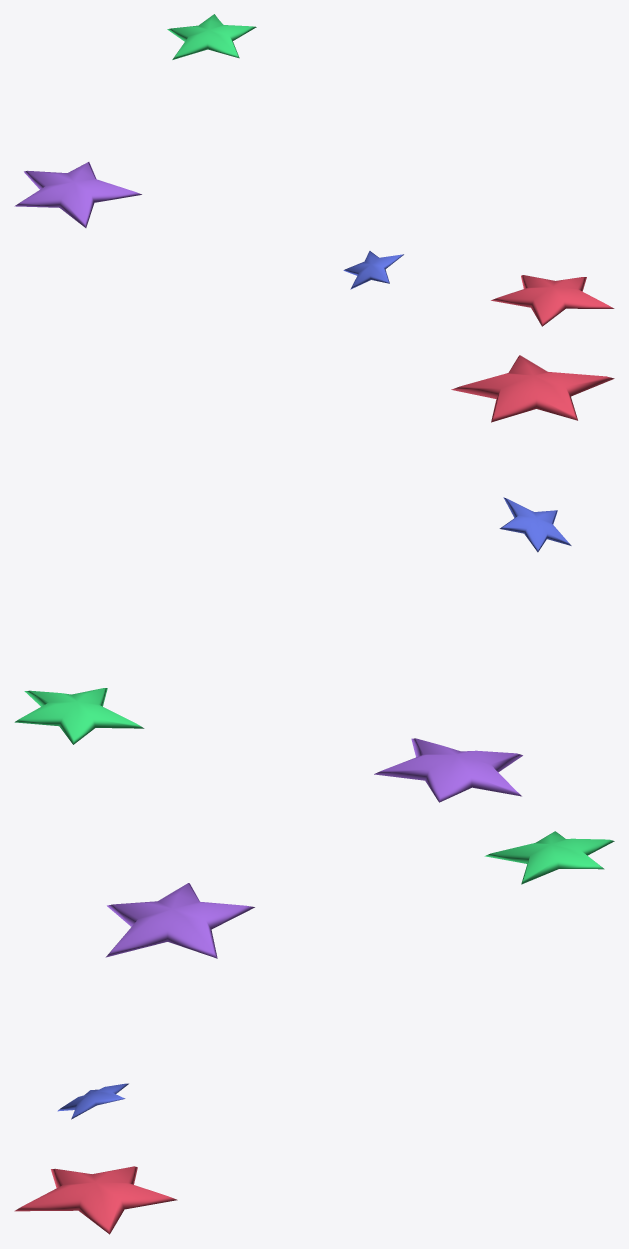
Rendered from starfish.glb.
3 renders of one model, top to bottom at view 1: azimuth 30°, elevation 25°; view 2: azimuth 150°, elevation 25°; view 3: azimuth 330°, elevation 25°, orthographic. The views are drawn at different scales.
Parts seen in each view (by area): view 1: Starfish-Purple, Starfish-Red, Starfish-Green, Starfish-Blue; view 2: Starfish-Red, Starfish-Purple, Starfish-Green, Starfish-Blue; view 3: Starfish-Purple, Starfish-Red, Starfish-Green, Starfish-Blue.
Boxes of the visible parts, left/top/right/bottom form: Starfish-Purple: left=14, top=162, right=141, bottom=227; Starfish-Red: left=491, top=275, right=614, bottom=326; Starfish-Green: left=167, top=14, right=256, bottom=59; Starfish-Blue: left=343, top=251, right=403, bottom=289; Starfish-Red: left=451, top=355, right=614, bottom=422; Starfish-Purple: left=374, top=738, right=522, bottom=802; Starfish-Green: left=14, top=688, right=144, bottom=744; Starfish-Blue: left=499, top=497, right=571, bottom=552; Starfish-Purple: left=105, top=883, right=254, bottom=958; Starfish-Red: left=14, top=1166, right=177, bottom=1234; Starfish-Green: left=484, top=831, right=614, bottom=884; Starfish-Blue: left=57, top=1083, right=128, bottom=1119.
Size of the model in its own units: 1.27 by 0.2512 by 2.76.
